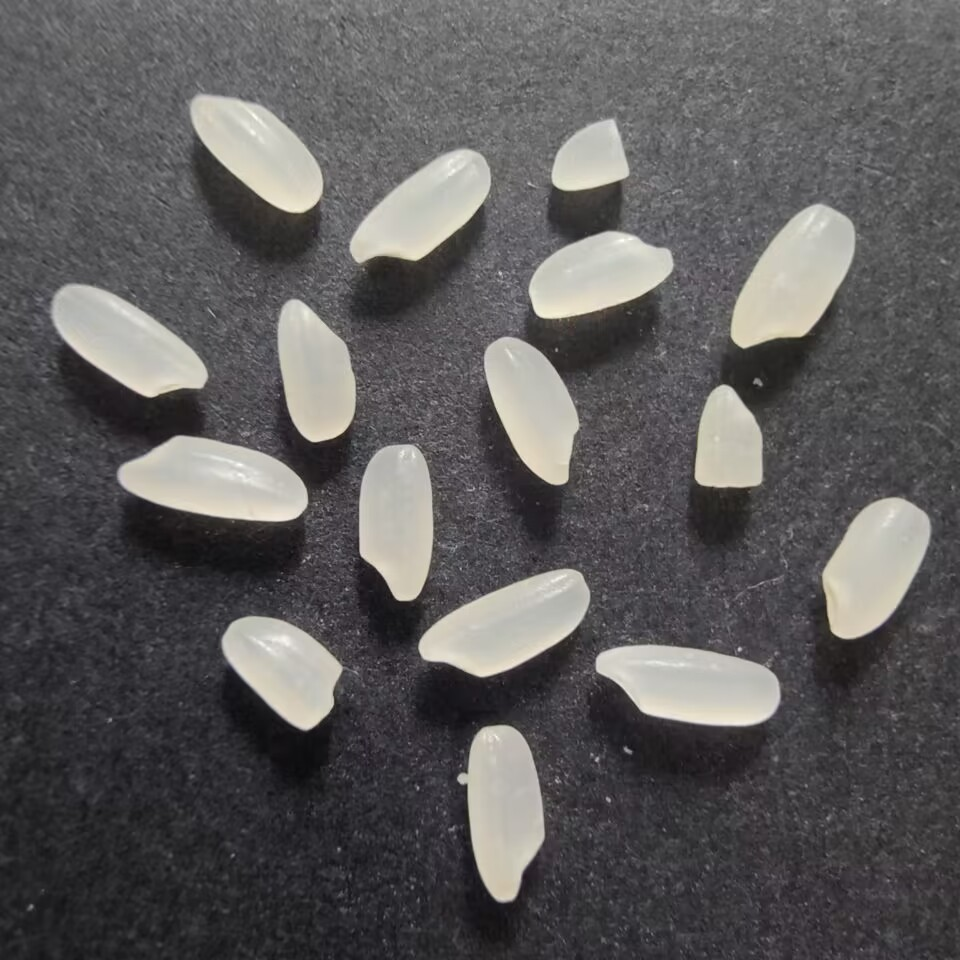broken: (216, 611, 353, 742), (690, 377, 773, 494), (547, 111, 635, 197)
rice: (409, 565, 597, 680), (43, 282, 213, 404), (729, 200, 861, 353), (108, 433, 315, 527), (591, 638, 786, 734), (185, 88, 327, 218), (342, 145, 494, 266), (818, 494, 937, 643), (462, 720, 553, 909), (478, 333, 587, 490), (522, 225, 681, 322), (351, 440, 436, 603), (271, 294, 362, 444)
